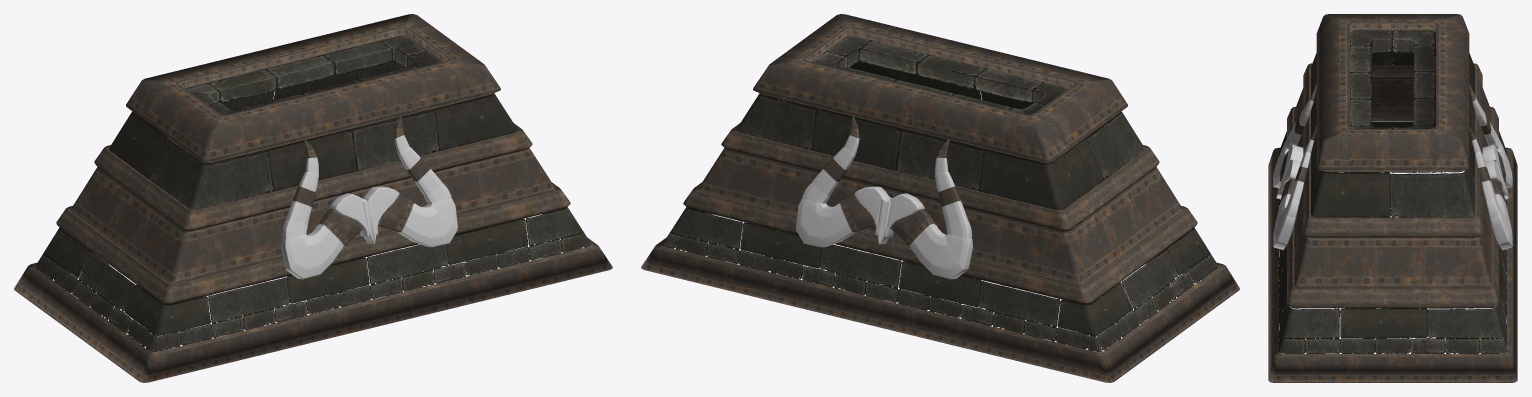
3 renders of one model, left to right at view 1: azimuth 30°, elevation 25°; view 2: azimuth 150°, elevation 25°; view 3: azimuth 270°, elevation 25°, orthographic. The views are drawn at different scales.
Visible parts, largest first — view 1: SM_DR_Lever_01_Base_LOD0; view 2: SM_DR_Lever_01_Base_LOD0; view 3: SM_DR_Lever_01_Base_LOD0.
Part boxes in pixels (x1,y1,x2,y2): SM_DR_Lever_01_Base_LOD0: (14, 14, 612, 382); SM_DR_Lever_01_Base_LOD0: (641, 14, 1239, 382); SM_DR_Lever_01_Base_LOD0: (1268, 14, 1517, 382).
Size of the model in its own units: 1.87 by 0.7842 by 0.8997.
